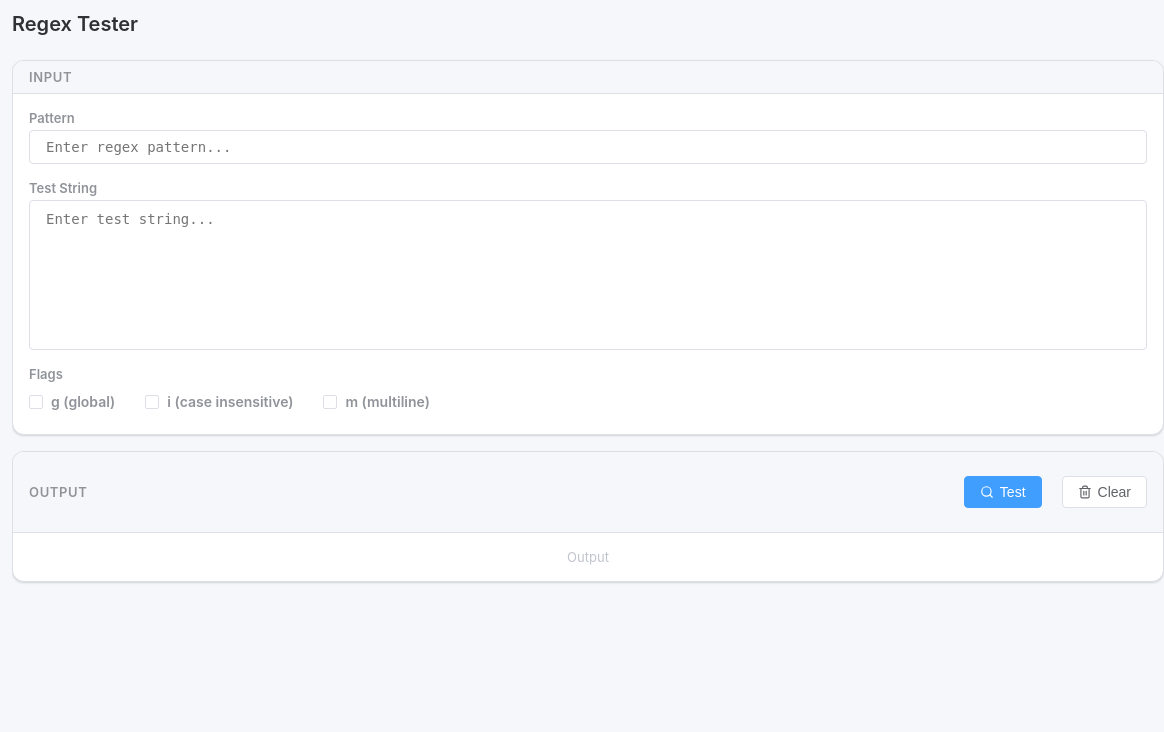
Test: RegexTester › should support global flag
In the field with class "regex-input": (588, 147) [29,130,1147,164], type "\\d+"
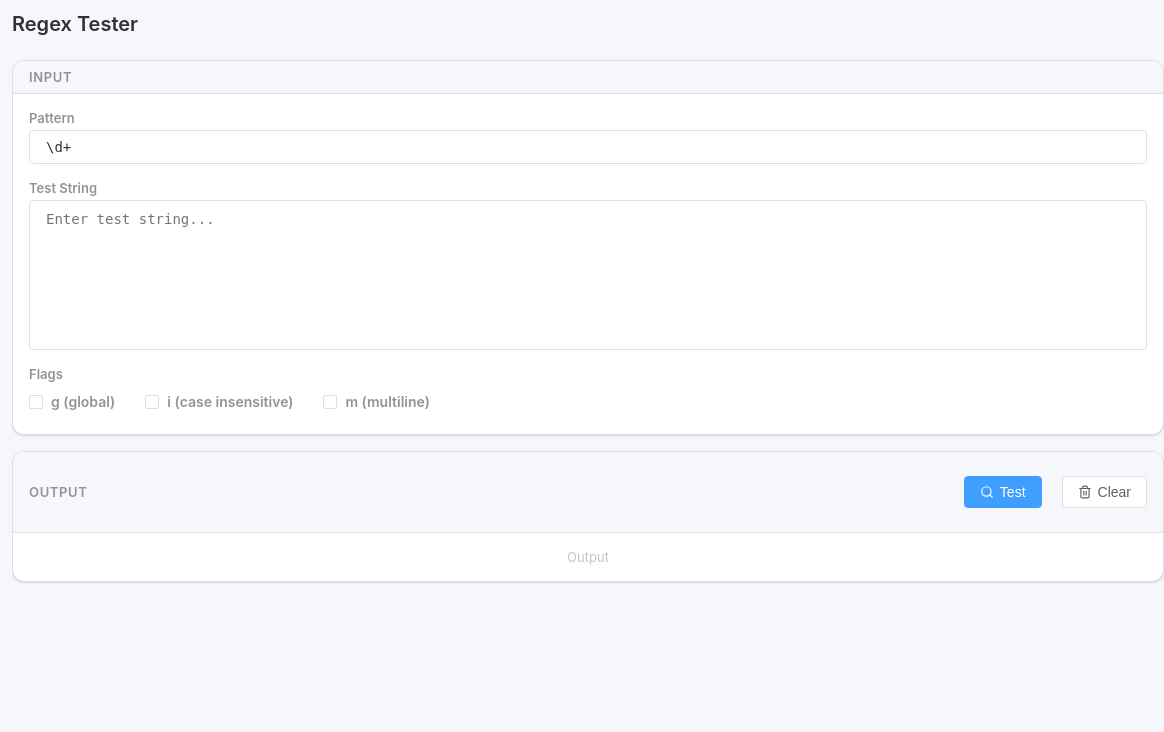
In the text box with class "test-input": (588, 275) [29,200,1147,350], type "1 2 3"
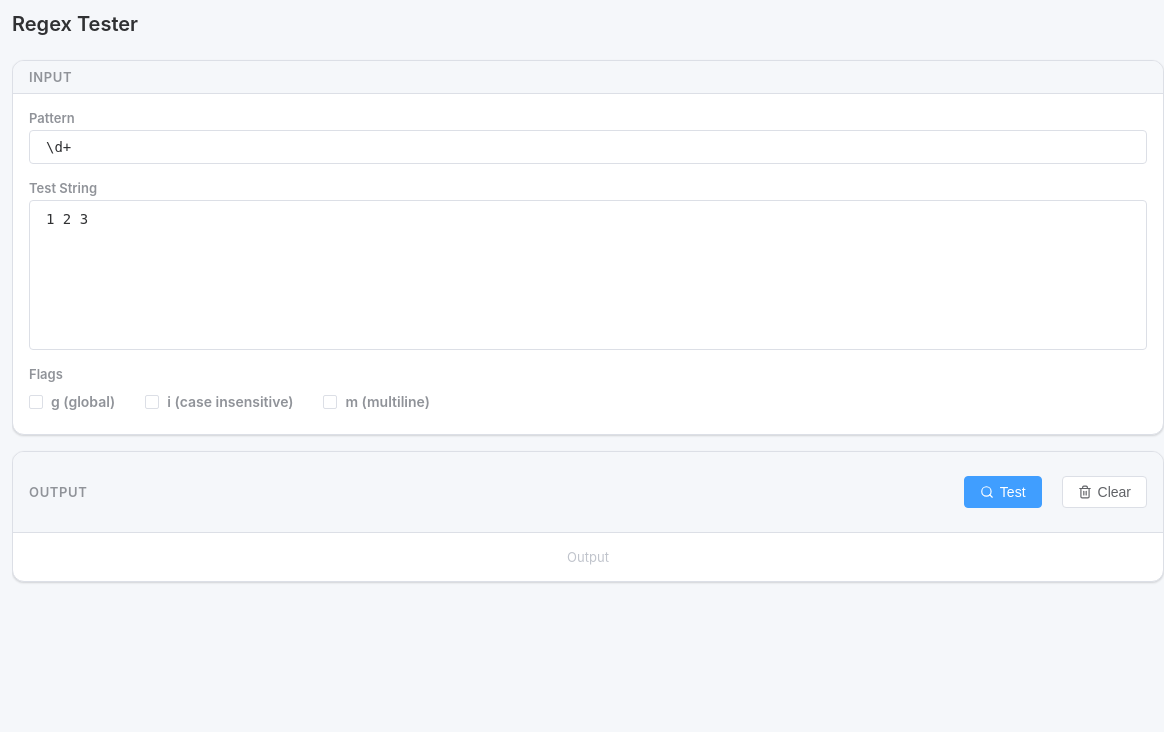
Click the checkbox labelled "g (global)": click(72, 402) [29,393,115,410]
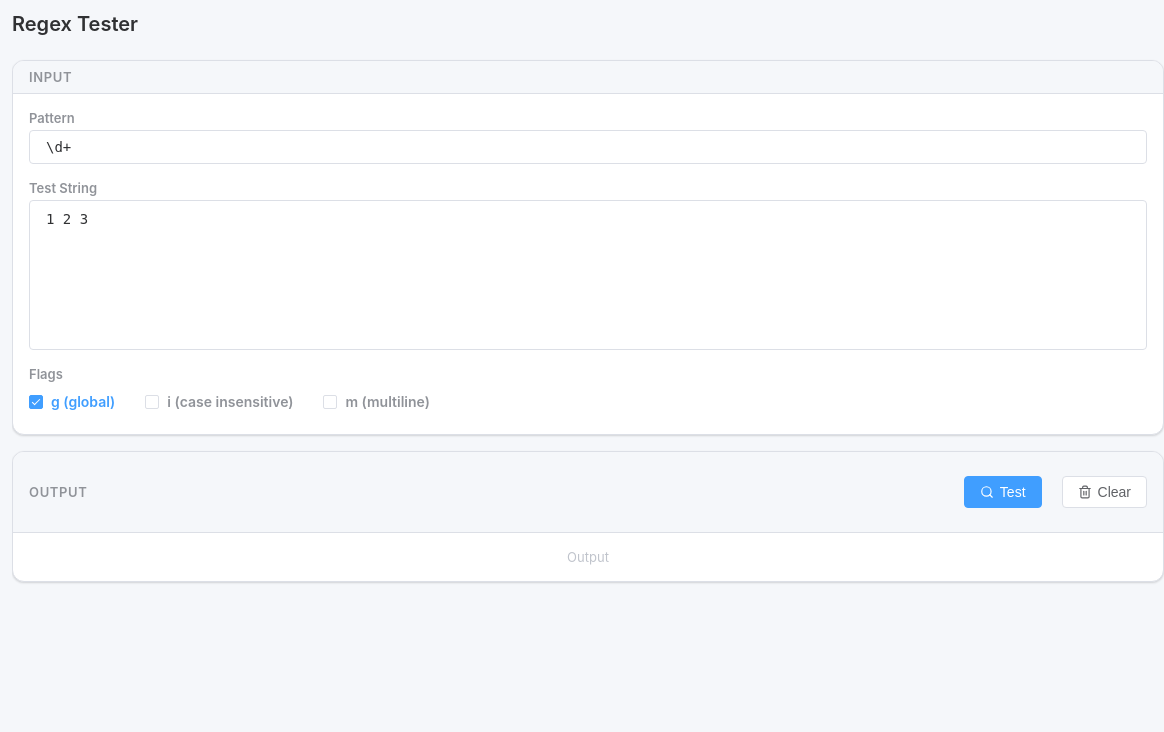
Click the button "Test": click(1003, 492) [964,476,1042,508]
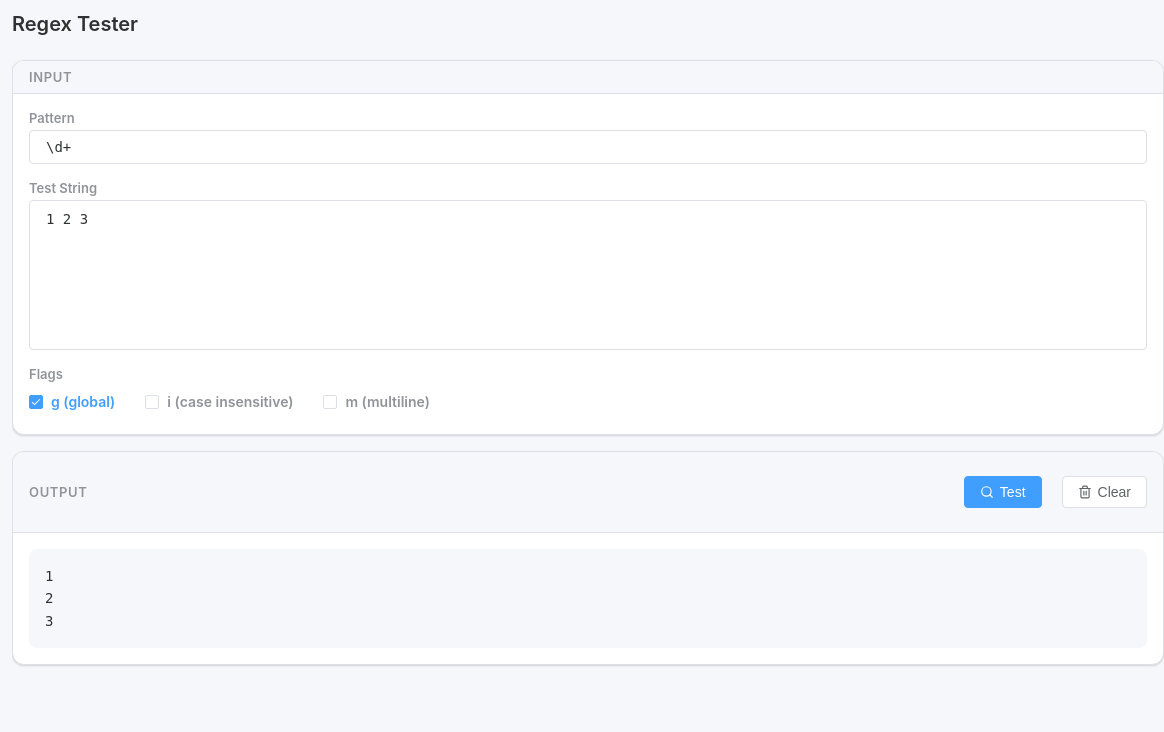
Expected: the element with class "code-content" shows "1", [45,568,53,629]
Expected: the element with class "code-content" shows "2", [45,568,53,629]
Expected: the element with class "code-content" shows "3", [45,568,53,629]
